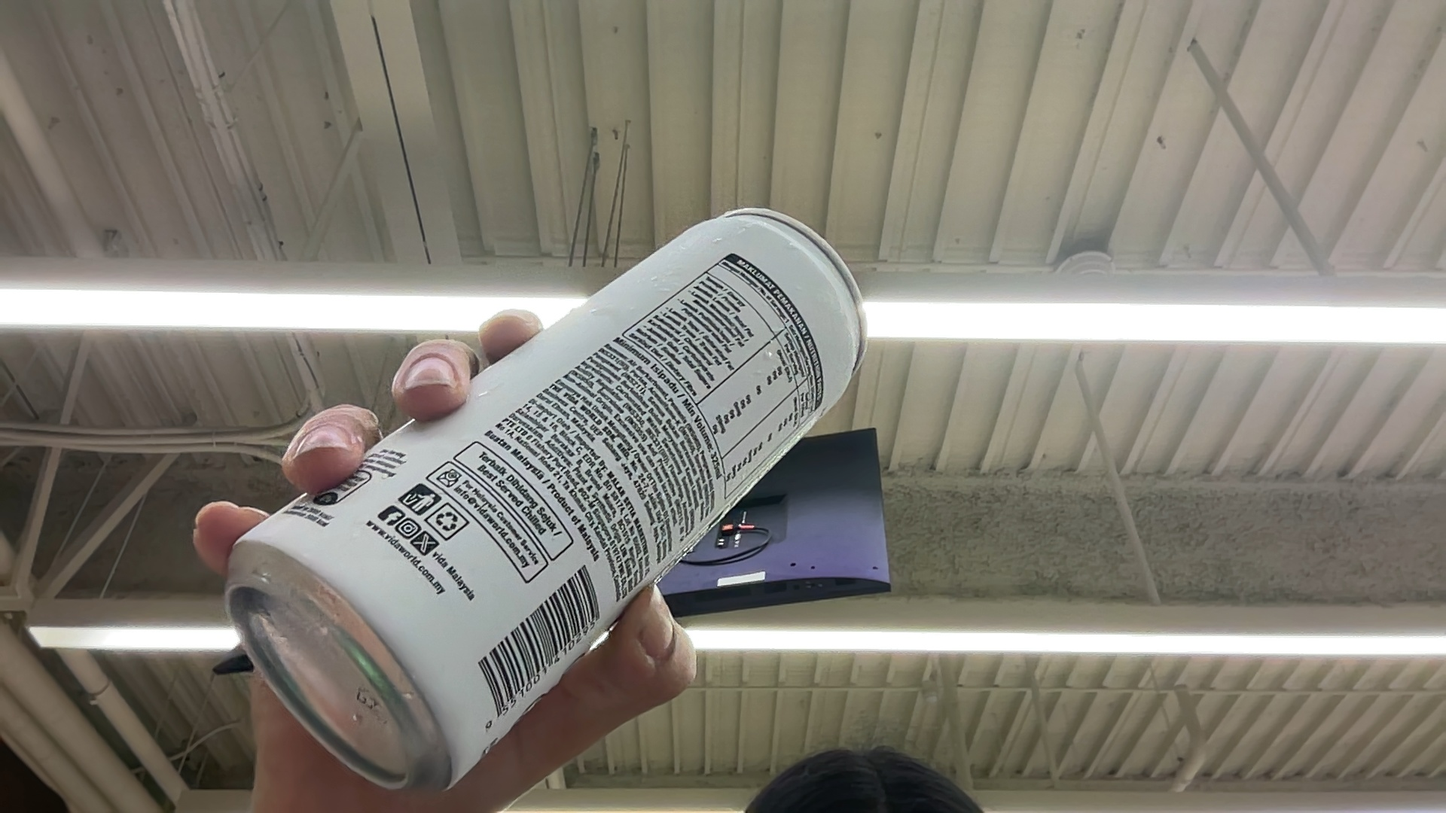Metal: (22, 178, 938, 796)
